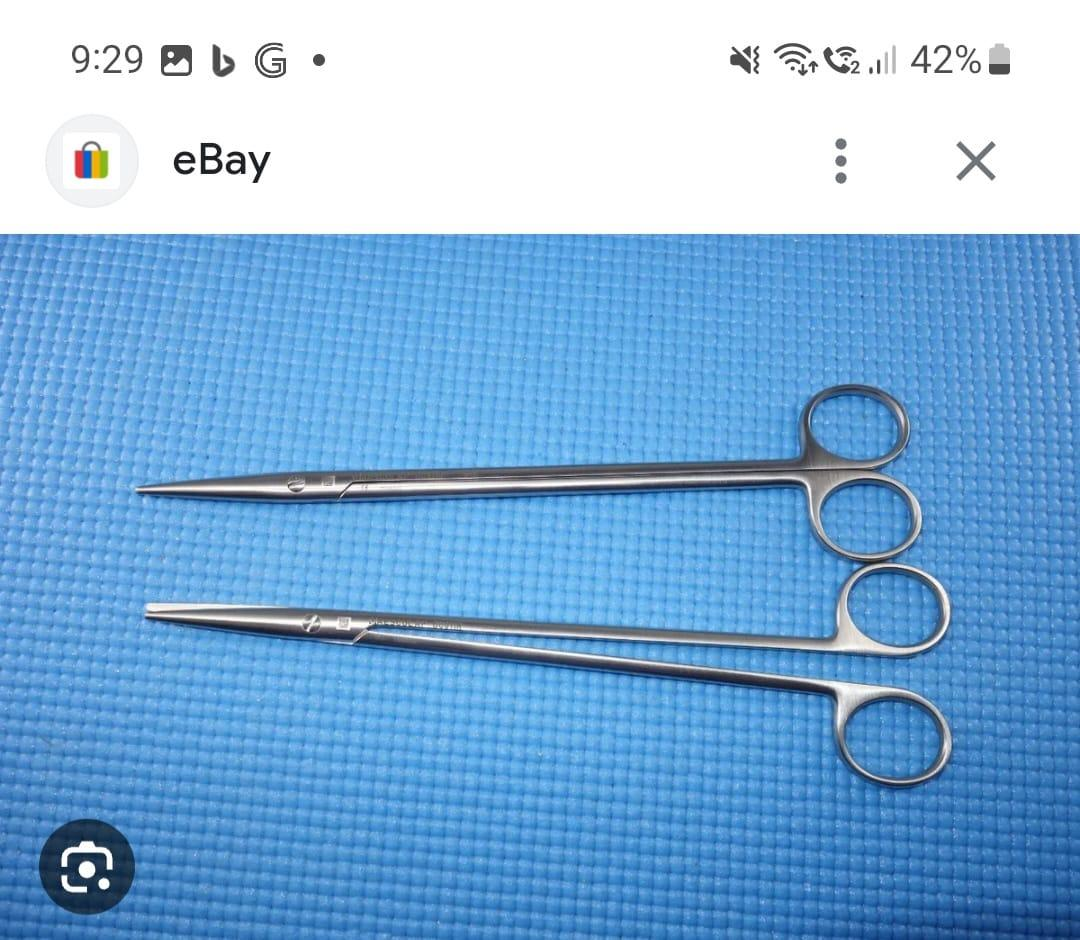Metzenbaum Sciccors: (137, 557, 966, 796), (127, 379, 933, 573)
